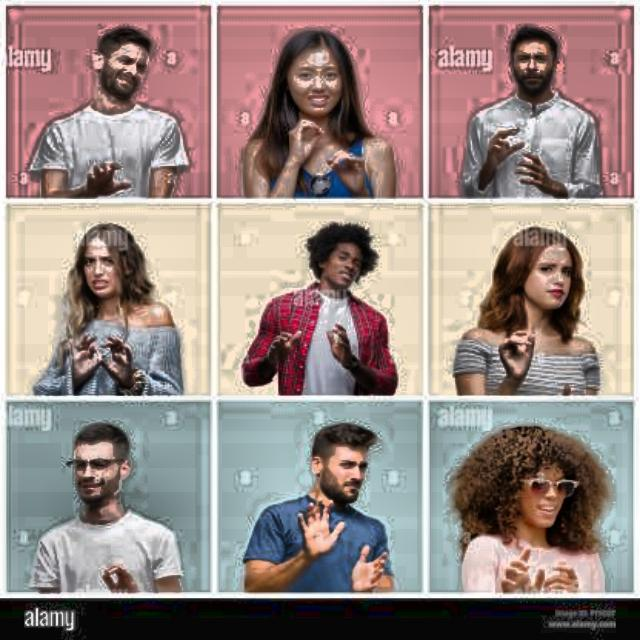disgust: (268, 26, 378, 130), (284, 219, 396, 302), (62, 222, 163, 309), (56, 419, 143, 514), (81, 23, 164, 121), (299, 413, 383, 505), (503, 19, 570, 111)
happy: (504, 435, 596, 550)
neutral: (487, 226, 596, 316)
